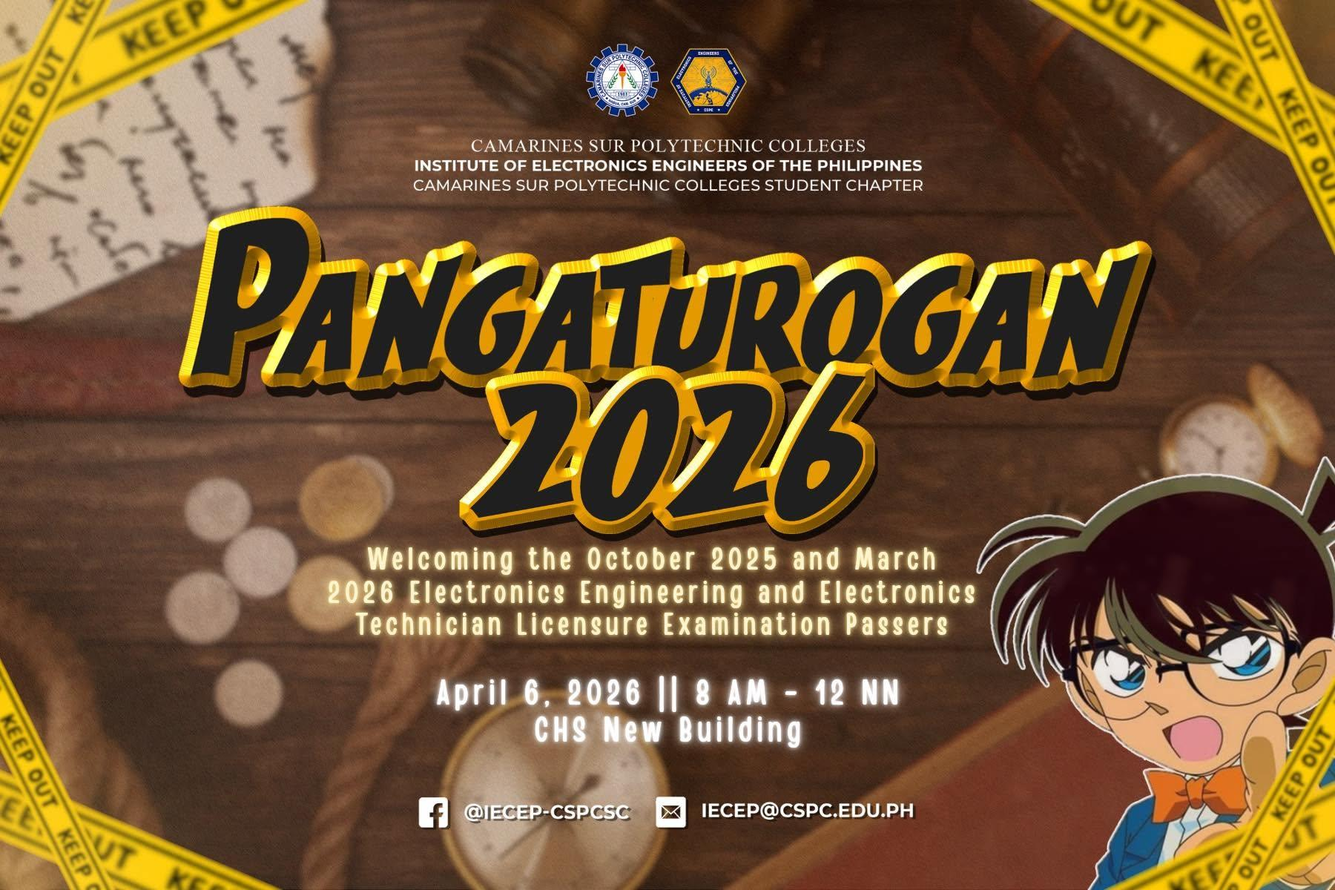embellishment: (965, 355, 1334, 889), (157, 446, 502, 888), (0, 0, 343, 320), (1019, 0, 1334, 261), (3, 662, 288, 889), (436, 690, 677, 889), (208, 652, 296, 730)
logo: (579, 39, 665, 120), (665, 38, 751, 119), (414, 792, 455, 831), (652, 792, 691, 830)
text: (157, 203, 1178, 540), (317, 537, 983, 659), (424, 659, 908, 754), (408, 131, 934, 200), (698, 797, 919, 822), (460, 799, 632, 825)
underlay: (280, 0, 1334, 535), (2, 256, 445, 887), (640, 655, 1136, 889), (351, 718, 467, 889), (1280, 0, 1334, 95), (0, 837, 71, 889)
